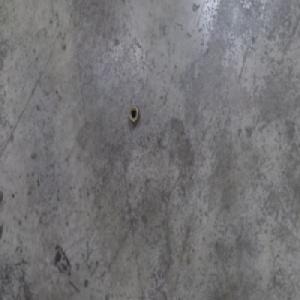Nut: (128, 104, 140, 125)
